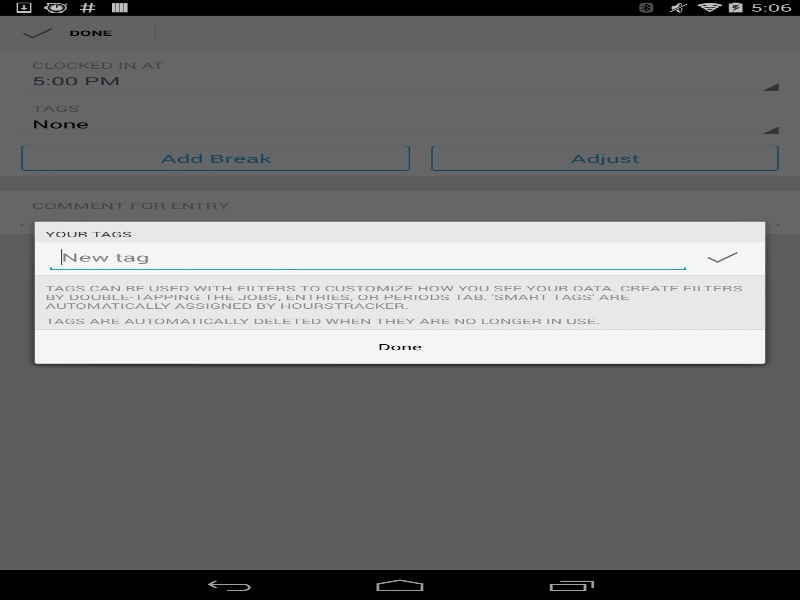Button: (34, 330, 765, 363), (690, 242, 754, 272)
Input: (45, 242, 690, 272)
